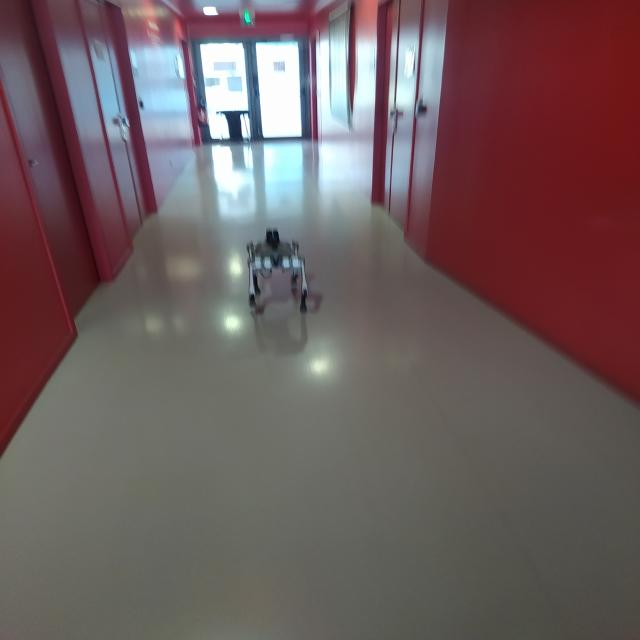unitree-go1-robot: (245, 223, 312, 312)
